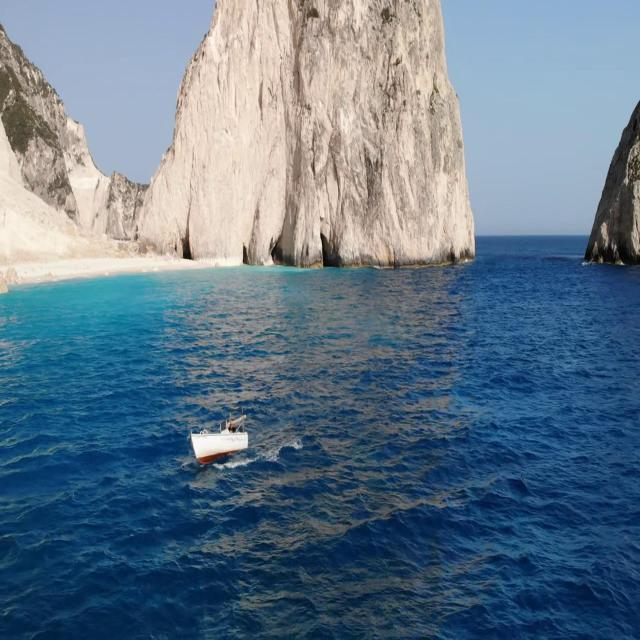boat: (185, 404, 258, 476)
